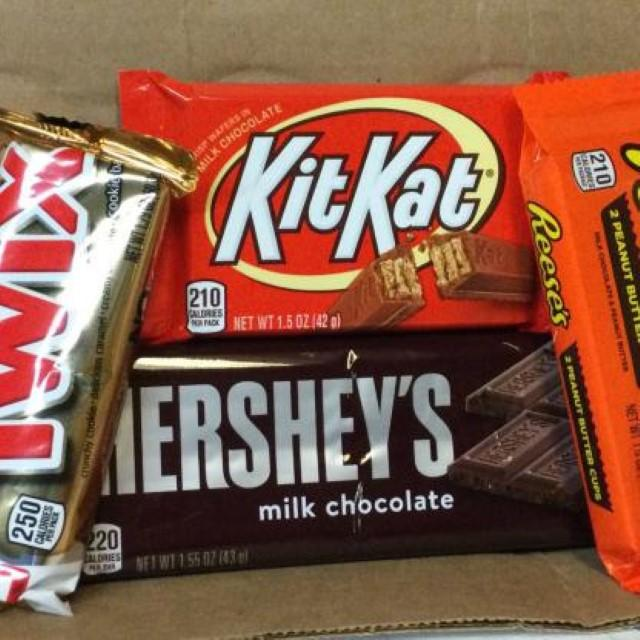kitkat_chocolate: (127, 54, 535, 344)
